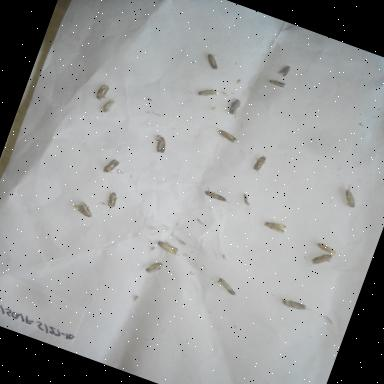pbw: (205, 270, 245, 302), (138, 254, 174, 286), (198, 186, 238, 210), (218, 92, 249, 122), (98, 186, 130, 214), (146, 130, 174, 160), (336, 184, 364, 214), (192, 78, 224, 104), (258, 215, 292, 238), (277, 294, 310, 317), (68, 197, 98, 222), (246, 149, 272, 176), (308, 248, 336, 272), (213, 127, 244, 148), (312, 238, 341, 259), (99, 95, 123, 119), (98, 154, 122, 177), (153, 238, 180, 258), (202, 52, 224, 74), (90, 80, 112, 102), (274, 60, 294, 80), (265, 76, 290, 92), (192, 216, 207, 230)
